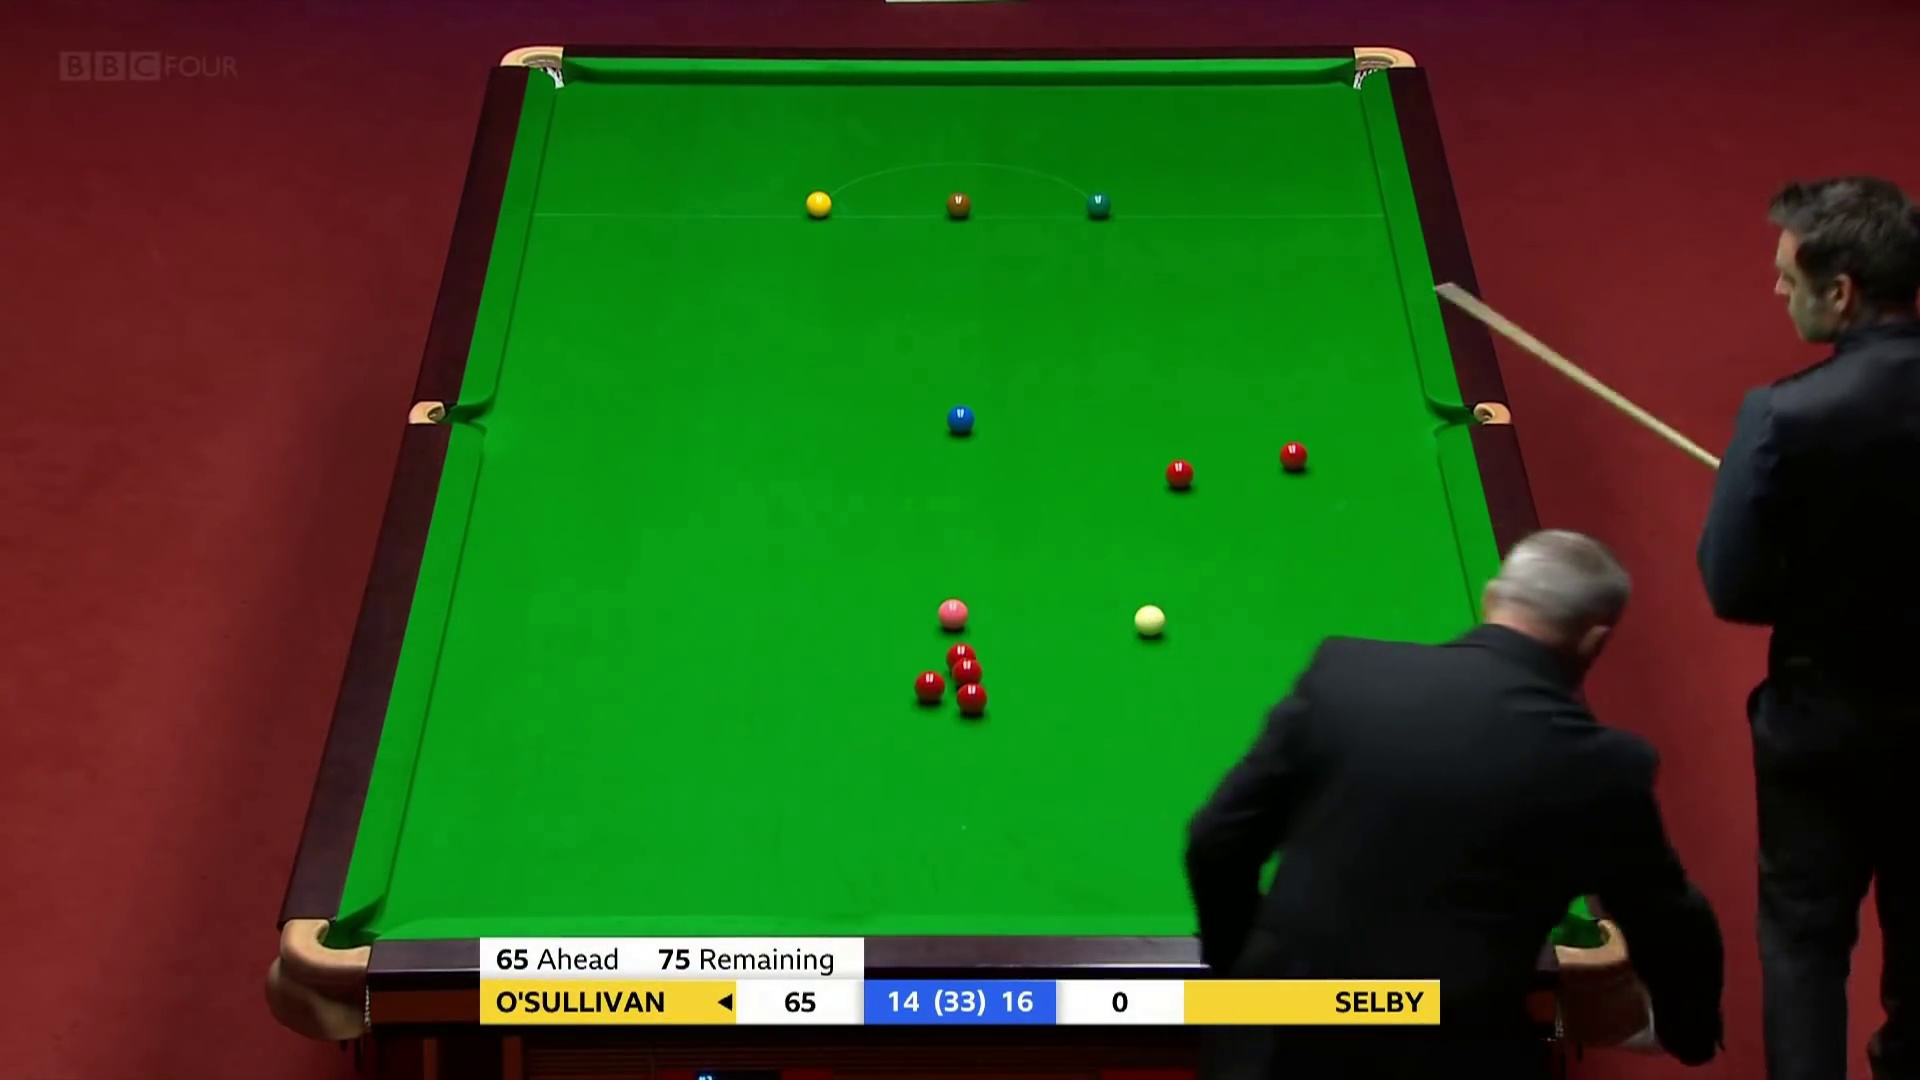blue: (943, 402, 980, 443)
brown: (940, 191, 977, 224)
green: (1077, 187, 1118, 229)
pink: (935, 596, 972, 640)
red: (956, 680, 990, 724), (1162, 455, 1197, 495), (913, 669, 947, 707), (945, 640, 978, 679), (1278, 438, 1309, 477), (951, 657, 985, 692)
white: (1130, 603, 1172, 641)
yellow: (803, 185, 836, 227)
